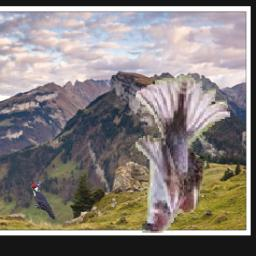Sparrow: (136, 75, 230, 233)
Woodpecker: (32, 180, 58, 219)
